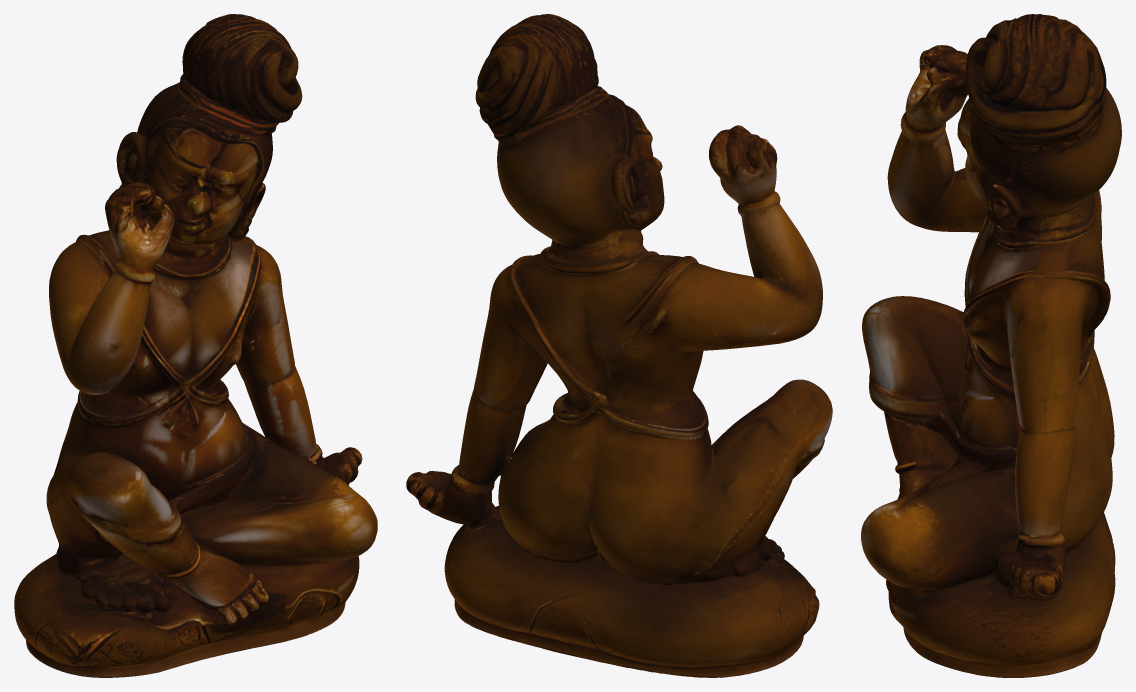
The picture shows the model from 3 angles, left to right: view 1: azimuth 30°, elevation 25°; view 2: azimuth 150°, elevation 25°; view 3: azimuth 270°, elevation 25°; orthographic projection. The views are drawn at different scales.
Parts seen in each view (by area): view 1: textured_mesh; view 2: textured_mesh; view 3: textured_mesh.
Boxes of the visible parts, x1,y1,x2,y2 form: textured_mesh: (14, 14, 377, 677); textured_mesh: (406, 14, 832, 677); textured_mesh: (861, 14, 1121, 677).
Bounding box in the file's own units: 1.3 × 1.99 × 0.7663.
Materials: 1 (1 with a texture image).
